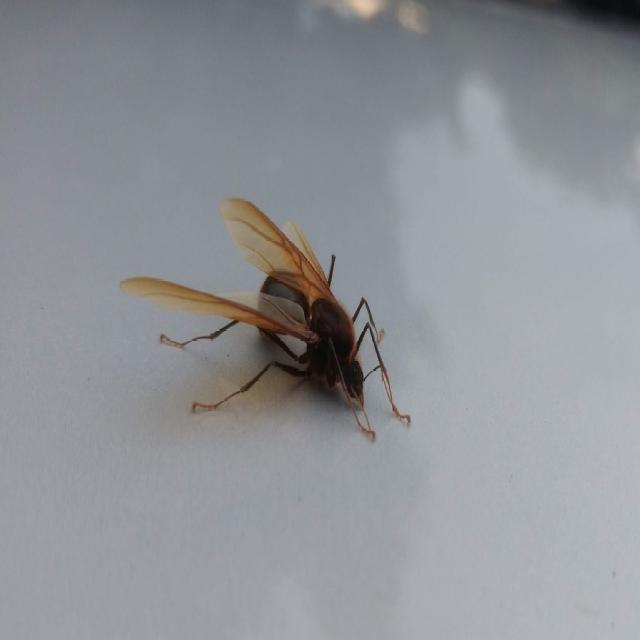Alive-Male-Alate: (119, 198, 411, 440)
